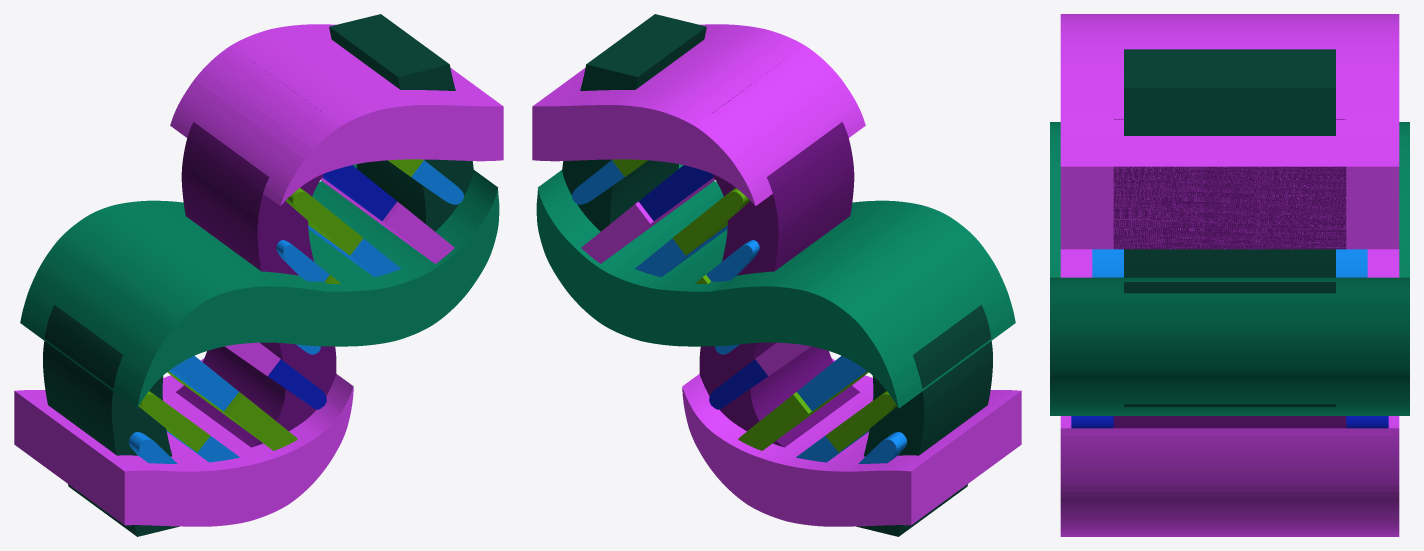
3 renders of one model, left to right at view 1: azimuth 30°, elevation 25°; view 2: azimuth 150°, elevation 25°; view 3: azimuth 270°, elevation 25°, orthographic. The views are drawn at different scales.
Visible parts, largest first — view 1: U+1F9EC_layer07_obj00, U+1F9EC_layer06_obj02, U+1F9EC_layer06_obj01, U+1F9EC_layer01_obj00, U+1F9EC_layer00_obj00, U+1F9EC_layer00_obj01, U+1F9EC_layer06_obj00, U+1F9EC_layer04_obj02, U+1F9EC_layer04_obj01, U+1F9EC_layer05_obj00, U+1F9EC_layer03_obj03, U+1F9EC_layer04_obj00 (+7 smaller); view 2: U+1F9EC_layer07_obj00, U+1F9EC_layer06_obj02, U+1F9EC_layer06_obj01, U+1F9EC_layer01_obj00, U+1F9EC_layer00_obj00, U+1F9EC_layer00_obj01, U+1F9EC_layer06_obj00, U+1F9EC_layer04_obj02, U+1F9EC_layer04_obj01, U+1F9EC_layer05_obj00, U+1F9EC_layer03_obj03, U+1F9EC_layer04_obj00 (+7 smaller); view 3: U+1F9EC_layer06_obj02, U+1F9EC_layer07_obj00, U+1F9EC_layer06_obj01, U+1F9EC_layer00_obj01, U+1F9EC_layer01_obj00, U+1F9EC_layer06_obj00, U+1F9EC_layer03_obj02, U+1F9EC_layer05_obj01.
Part boxes in pixels (left/top/right/bottom): U+1F9EC_layer07_obj00: left=20, top=164, right=499, bottom=408; U+1F9EC_layer06_obj02: left=170, top=24, right=503, bottom=205; U+1F9EC_layer06_obj01: left=14, top=358, right=353, bottom=526; U+1F9EC_layer01_obj00: left=176, top=59, right=336, bottom=447; U+1F9EC_layer00_obj00: left=43, top=305, right=179, bottom=536; U+1F9EC_layer00_obj01: left=329, top=14, right=473, bottom=231; U+1F9EC_layer06_obj00: left=321, top=177, right=454, bottom=263; U+1F9EC_layer04_obj02: left=167, top=371, right=297, bottom=450; U+1F9EC_layer04_obj01: left=285, top=188, right=363, bottom=255; U+1F9EC_layer05_obj00: left=322, top=165, right=396, bottom=220; U+1F9EC_layer03_obj03: left=169, top=356, right=238, bottom=411; U+1F9EC_layer04_obj00: left=139, top=391, right=210, bottom=452; U+1F9EC_layer07_obj00: left=536, top=164, right=1015, bottom=408; U+1F9EC_layer06_obj02: left=532, top=24, right=865, bottom=205; U+1F9EC_layer06_obj01: left=682, top=358, right=1021, bottom=526; U+1F9EC_layer01_obj00: left=699, top=62, right=859, bottom=447; U+1F9EC_layer00_obj00: left=856, top=305, right=992, bottom=536; U+1F9EC_layer00_obj01: left=562, top=14, right=706, bottom=231; U+1F9EC_layer06_obj00: left=581, top=177, right=714, bottom=263; U+1F9EC_layer04_obj02: left=738, top=371, right=868, bottom=450; U+1F9EC_layer04_obj01: left=672, top=188, right=750, bottom=255; U+1F9EC_layer05_obj00: left=639, top=165, right=713, bottom=220; U+1F9EC_layer03_obj03: left=797, top=356, right=866, bottom=411; U+1F9EC_layer04_obj00: left=825, top=391, right=896, bottom=452; U+1F9EC_layer06_obj02: left=1060, top=14, right=1399, bottom=249; U+1F9EC_layer07_obj00: left=1050, top=122, right=1409, bottom=415; U+1F9EC_layer06_obj01: left=1060, top=416, right=1399, bottom=536; U+1F9EC_layer00_obj01: left=1124, top=49, right=1335, bottom=406; U+1F9EC_layer01_obj00: left=1113, top=119, right=1346, bottom=428; U+1F9EC_layer06_obj00: left=1060, top=249, right=1399, bottom=277; U+1F9EC_layer03_obj02: left=1092, top=249, right=1367, bottom=277; U+1F9EC_layer05_obj01: left=1071, top=416, right=1388, bottom=428.
Size of the model in its own units: 0.3175 by 0.3174 by 0.17.
